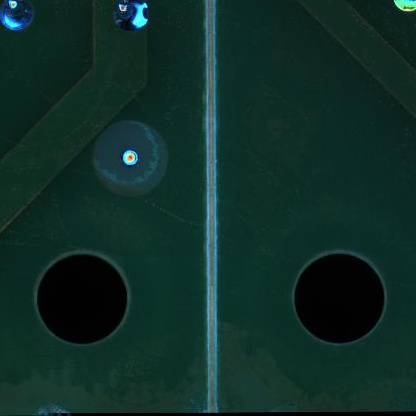spot: (93, 119, 170, 196)
